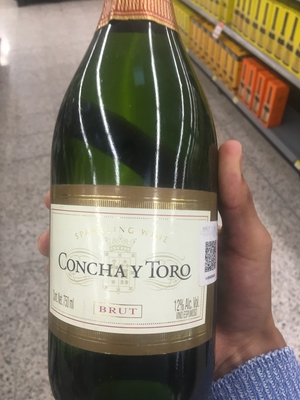brut: (46, 8, 222, 399)
